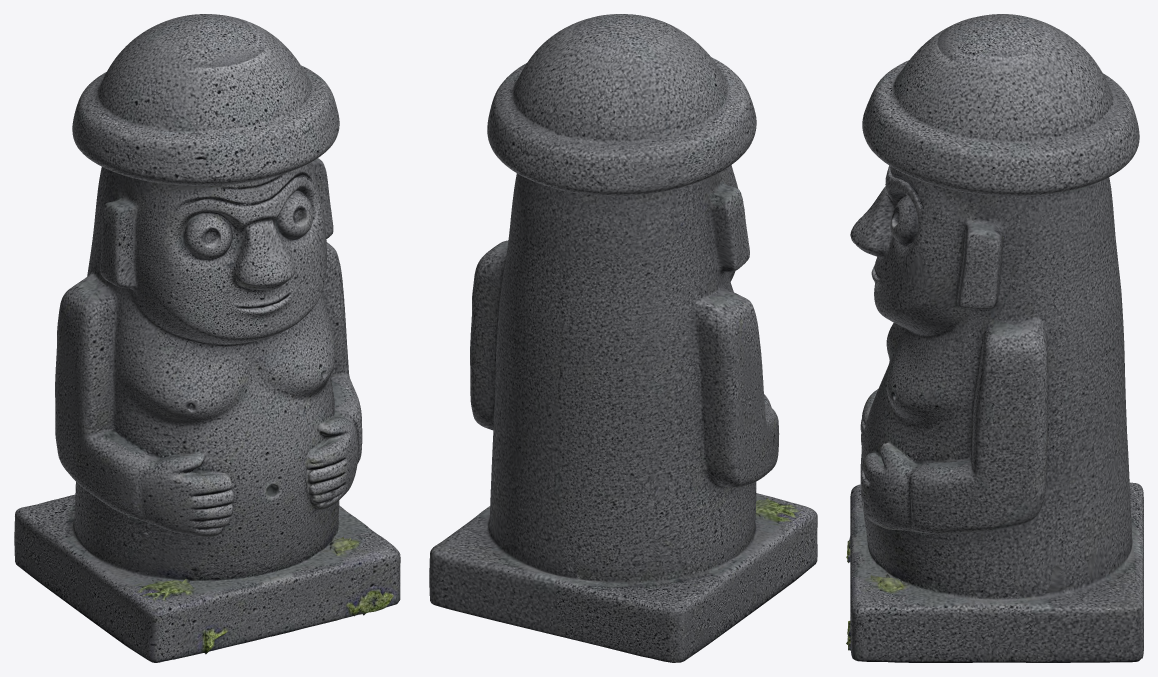
File: hareubang.glb
The picture shows the model from 3 angles, left to right: view 1: azimuth 30°, elevation 25°; view 2: azimuth 150°, elevation 25°; view 3: azimuth 270°, elevation 25°; orthographic projection. The views are drawn at different scales.
Visible parts, largest first — view 1: tripo_node_70b08dff-88d1-4df3-8332-922bd8b70686; view 2: tripo_node_70b08dff-88d1-4df3-8332-922bd8b70686; view 3: tripo_node_70b08dff-88d1-4df3-8332-922bd8b70686.
Boxes of the visible parts, left/top/right/bottom form: tripo_node_70b08dff-88d1-4df3-8332-922bd8b70686: left=14, top=14, right=400, bottom=662; tripo_node_70b08dff-88d1-4df3-8332-922bd8b70686: left=429, top=14, right=817, bottom=662; tripo_node_70b08dff-88d1-4df3-8332-922bd8b70686: left=846, top=14, right=1143, bottom=662.
Size of the model in its own units: 0.4949 by 0.9807 by 0.4596.
1 material, 1 textured.
